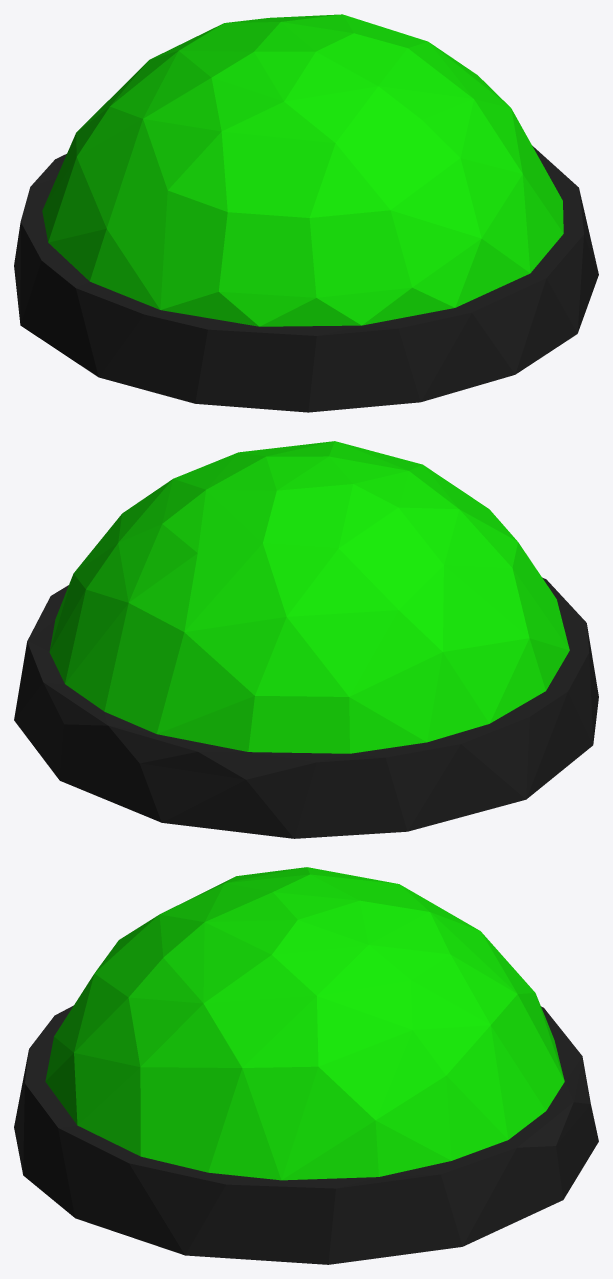
Rendered from Light Green.fbx.
3 views of the same model, one above another, from view 1: azimuth 30°, elevation 25°; view 2: azimuth 150°, elevation 25°; view 3: azimuth 270°, elevation 25° (orthographic).
Visible parts, largest first — view 1: Sphere.001; view 2: Sphere.001; view 3: Sphere.001.
Part boxes in pixels (x1,y1,x2,y2): Sphere.001: [14, 14, 598, 412]; Sphere.001: [14, 441, 598, 838]; Sphere.001: [14, 867, 598, 1264].
Bounding box in the file's own units: 214 × 101 × 216.
